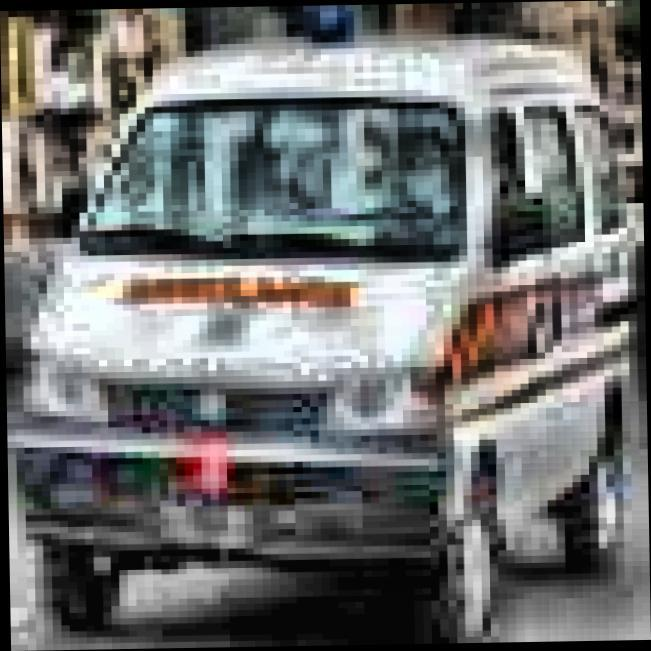ER: (0, 37, 636, 635)
